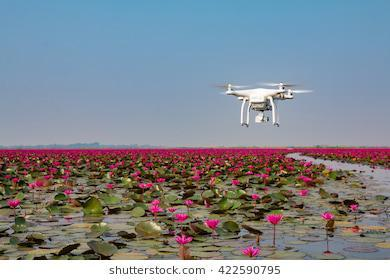drone: (212, 75, 315, 131)
